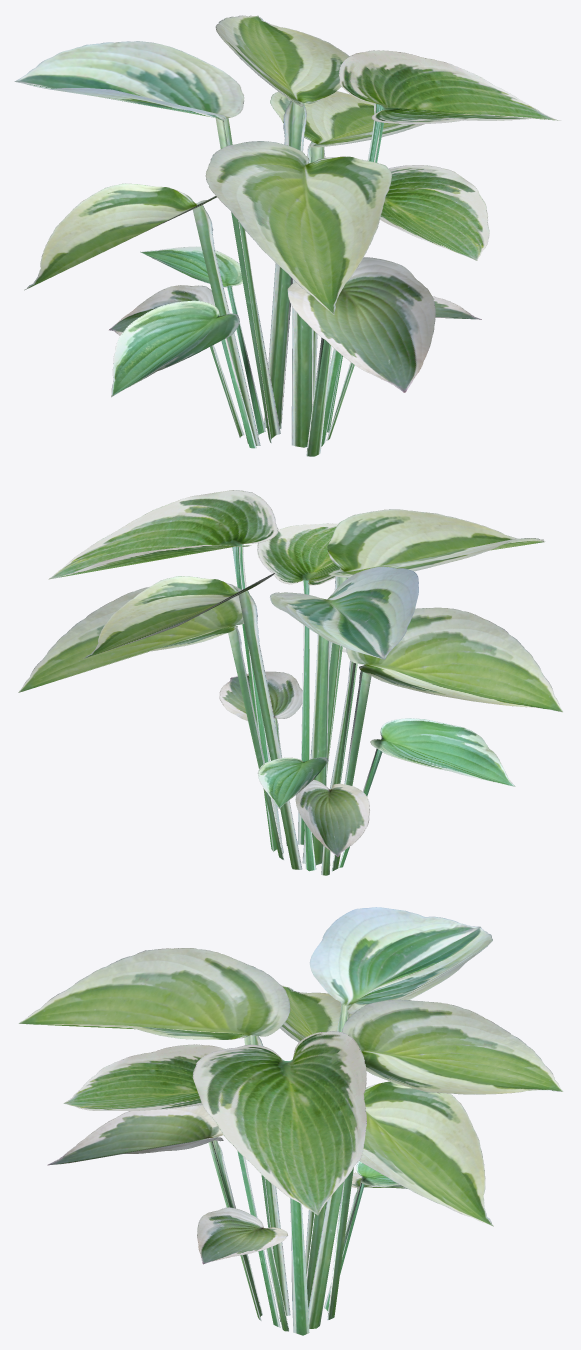
File: plant_small_wg_00H.fbx
3 renders of one model, top to bottom at view 1: azimuth 30°, elevation 25°; view 2: azimuth 150°, elevation 25°; view 3: azimuth 270°, elevation 25°, orthographic. The views are drawn at different scales.
Visible parts, largest first — view 1: plant_small_wg_00H; view 2: plant_small_wg_00H; view 3: plant_small_wg_00H.
Part boxes in pixels (bbox=[...]): plant_small_wg_00H: bbox=[14, 15, 560, 456]; plant_small_wg_00H: bbox=[18, 490, 562, 875]; plant_small_wg_00H: bbox=[18, 907, 563, 1335].
Size of the model in its own units: 66.88 by 42.39 by 61.89.
Materials: 1 (1 with a texture image).
